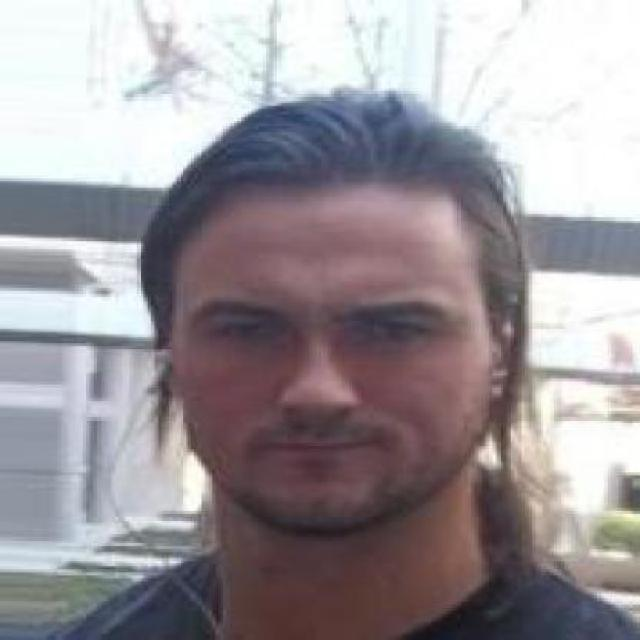closed-mouth: (254, 430, 392, 478)
